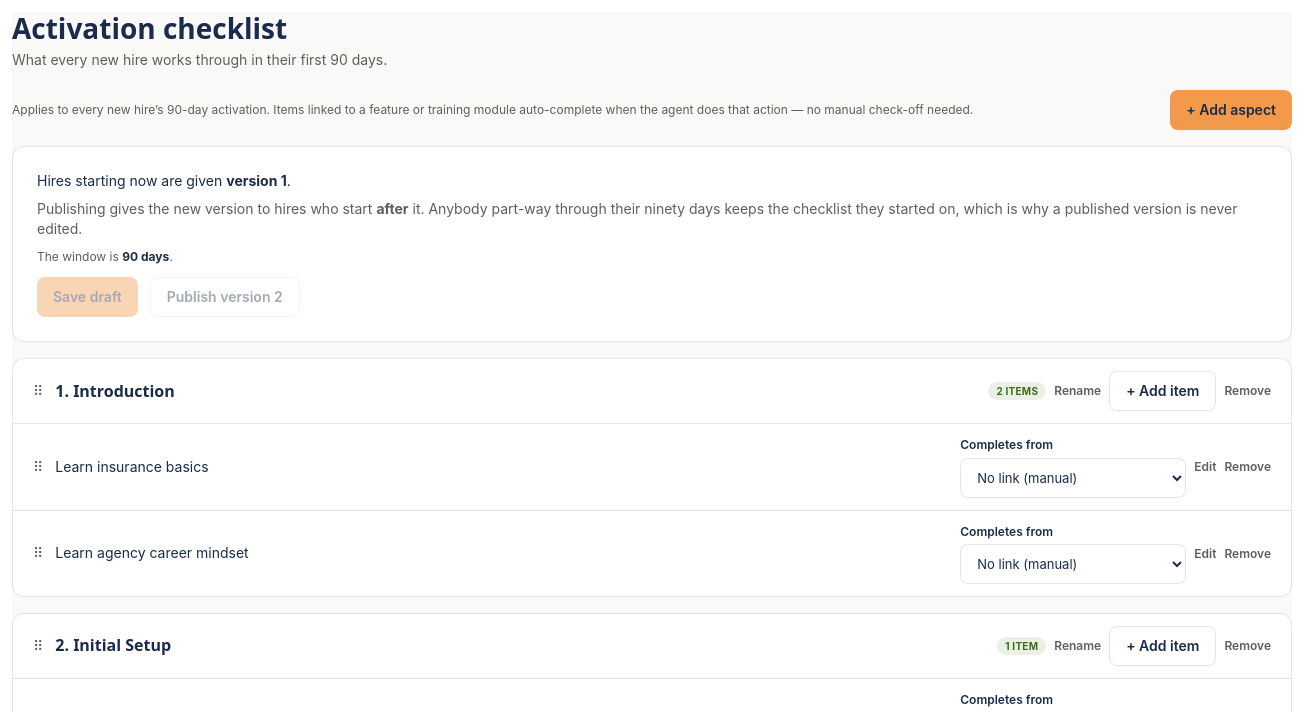
Test case: Settings › Activation checklist (P5-T3) › takes an edit back without touching what the office has saved
Expected: the heading "1. Introduction" is shown, [55,380,175,403]
Select "Leads Management" in the dropdown labelled "Completes from" in the row of "Learn insurance basics" at (1073, 478), box [960,458,1186,498]
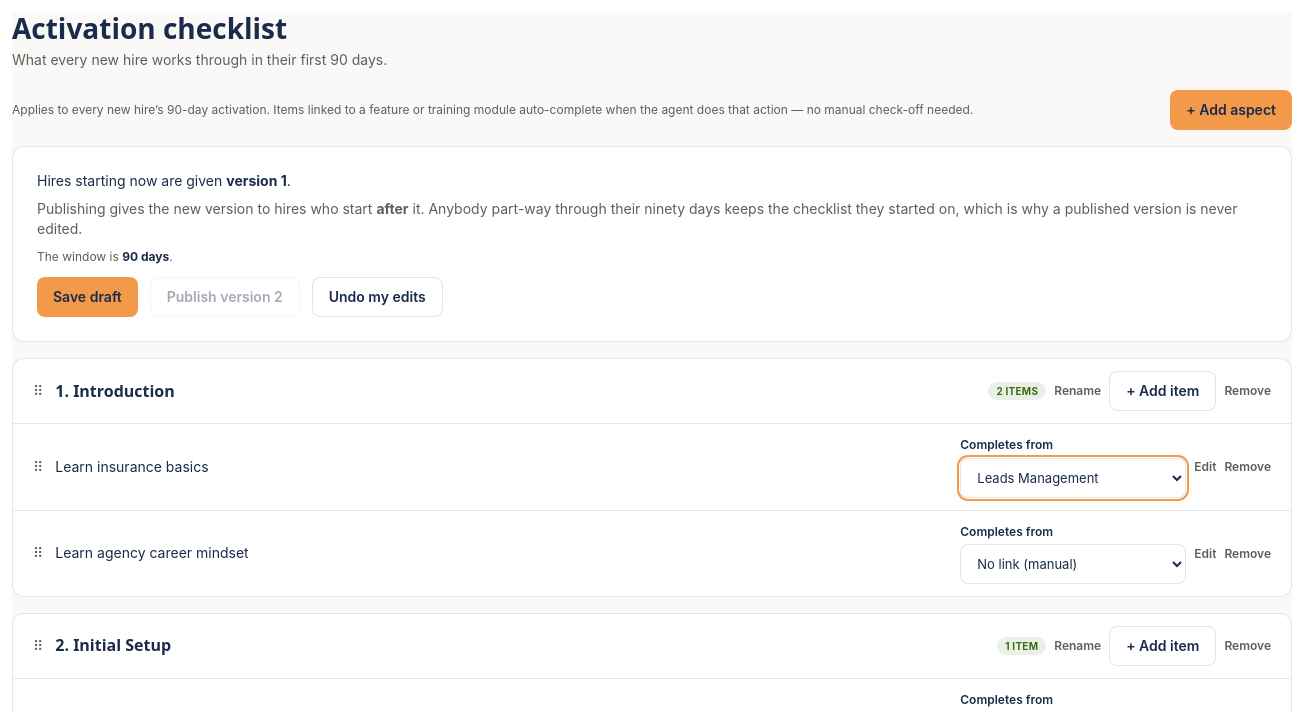
Click the button "Undo my edits" at (377, 297), box [312,277,443,317]
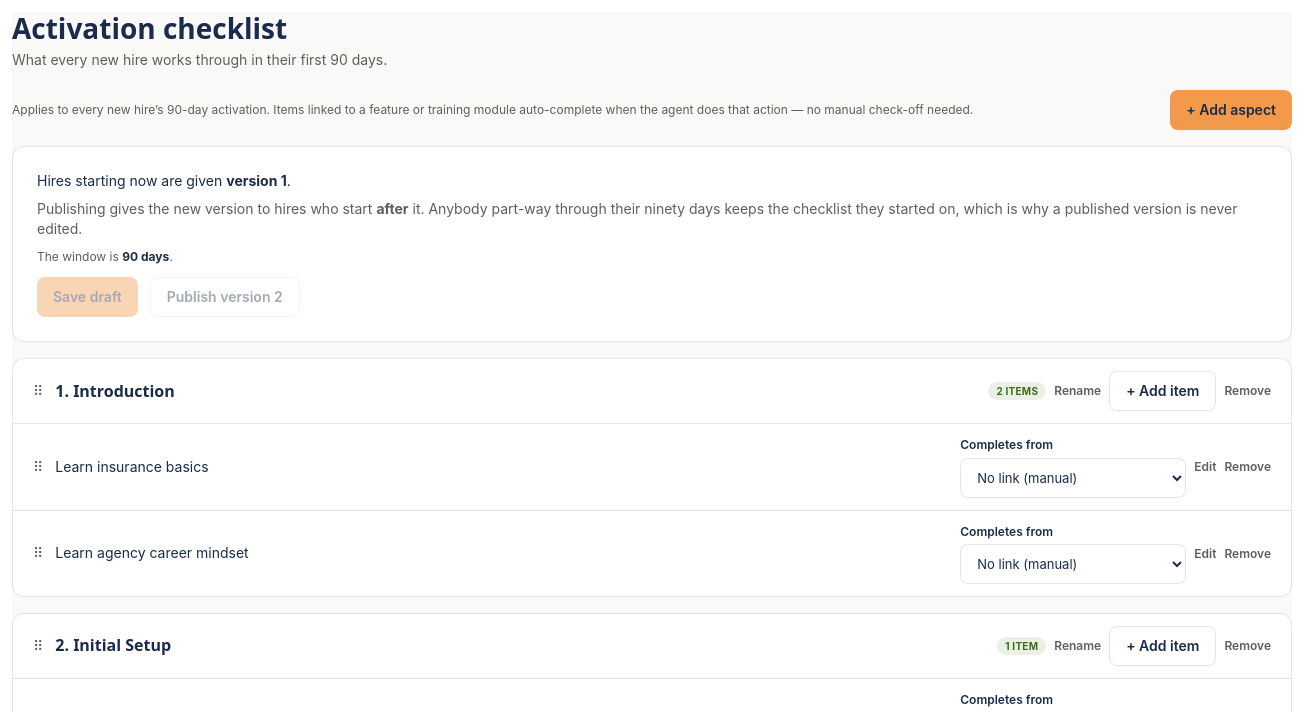
Expected: the button "Save draft" is disabled, [37,277,138,317]
